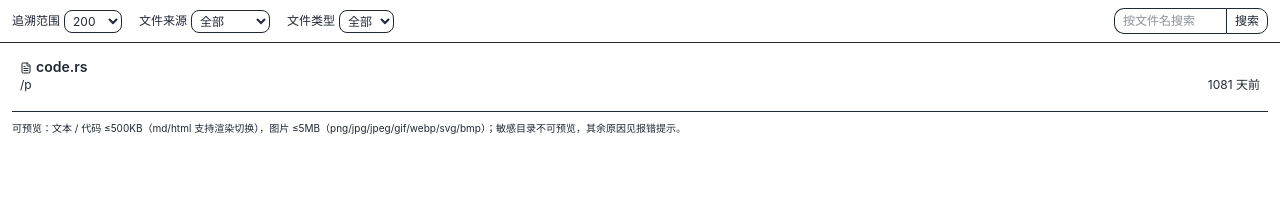
Test: FilePanel 文件类型下拉（用户裁决 5，原 chips 改下拉） › 过滤后无匹配 → 空态（不与「范围内无文件」混淆）
Select "图片" in the dropdown with test id "file-kind-select" at {"x": 366, "y": 21}, box [339,10,394,32]
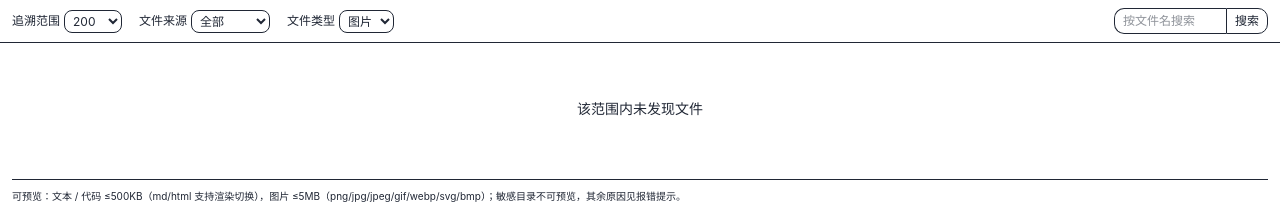
Result: the text "该范围内未发现文件" is shown at [577,100,703,117]
